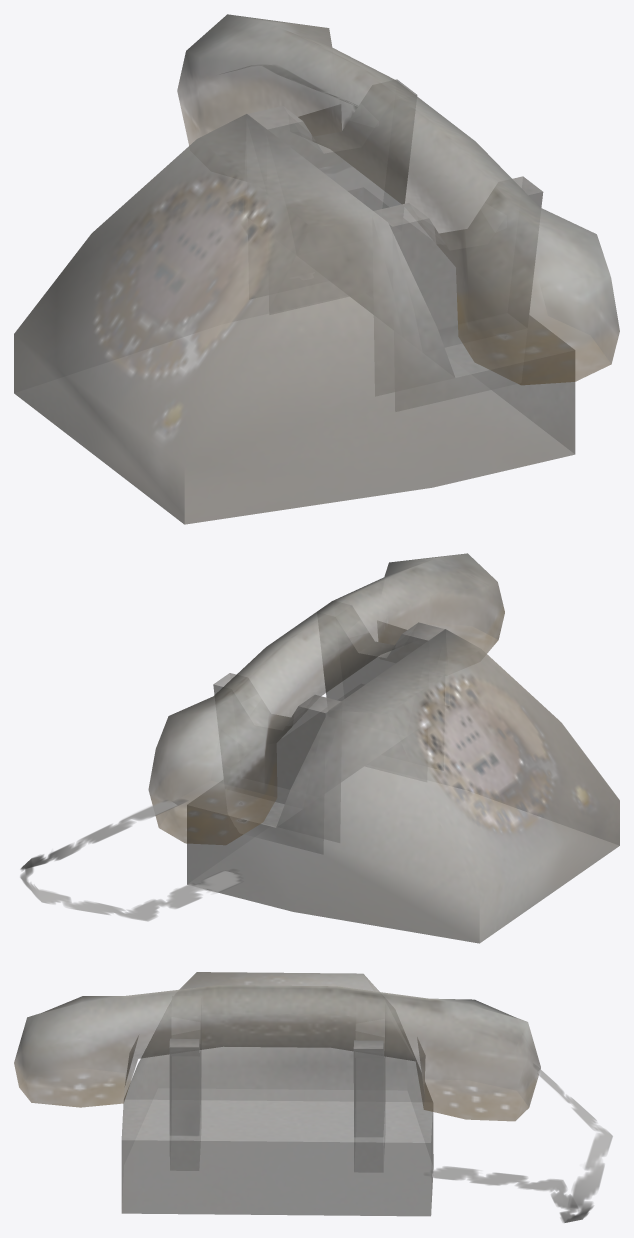
File: phone.glb
The picture shows the model from 3 angles, top to bottom: view 1: azimuth 30°, elevation 25°; view 2: azimuth 150°, elevation 25°; view 3: azimuth 270°, elevation 25°; orthographic projection. The views are drawn at different scales.
Visible parts, largest first — view 1: Phone; view 2: Phone; view 3: Phone.
Part boxes in pixels (<box>): Phone: <box>14,14,619,524</box>; Phone: <box>20,553,619,943</box>; Phone: <box>14,972,612,1222</box>.
Bounding box in the file's own units: 0.5768 × 0.3373 × 0.9023.
Materials: 1 (1 with a texture image).
